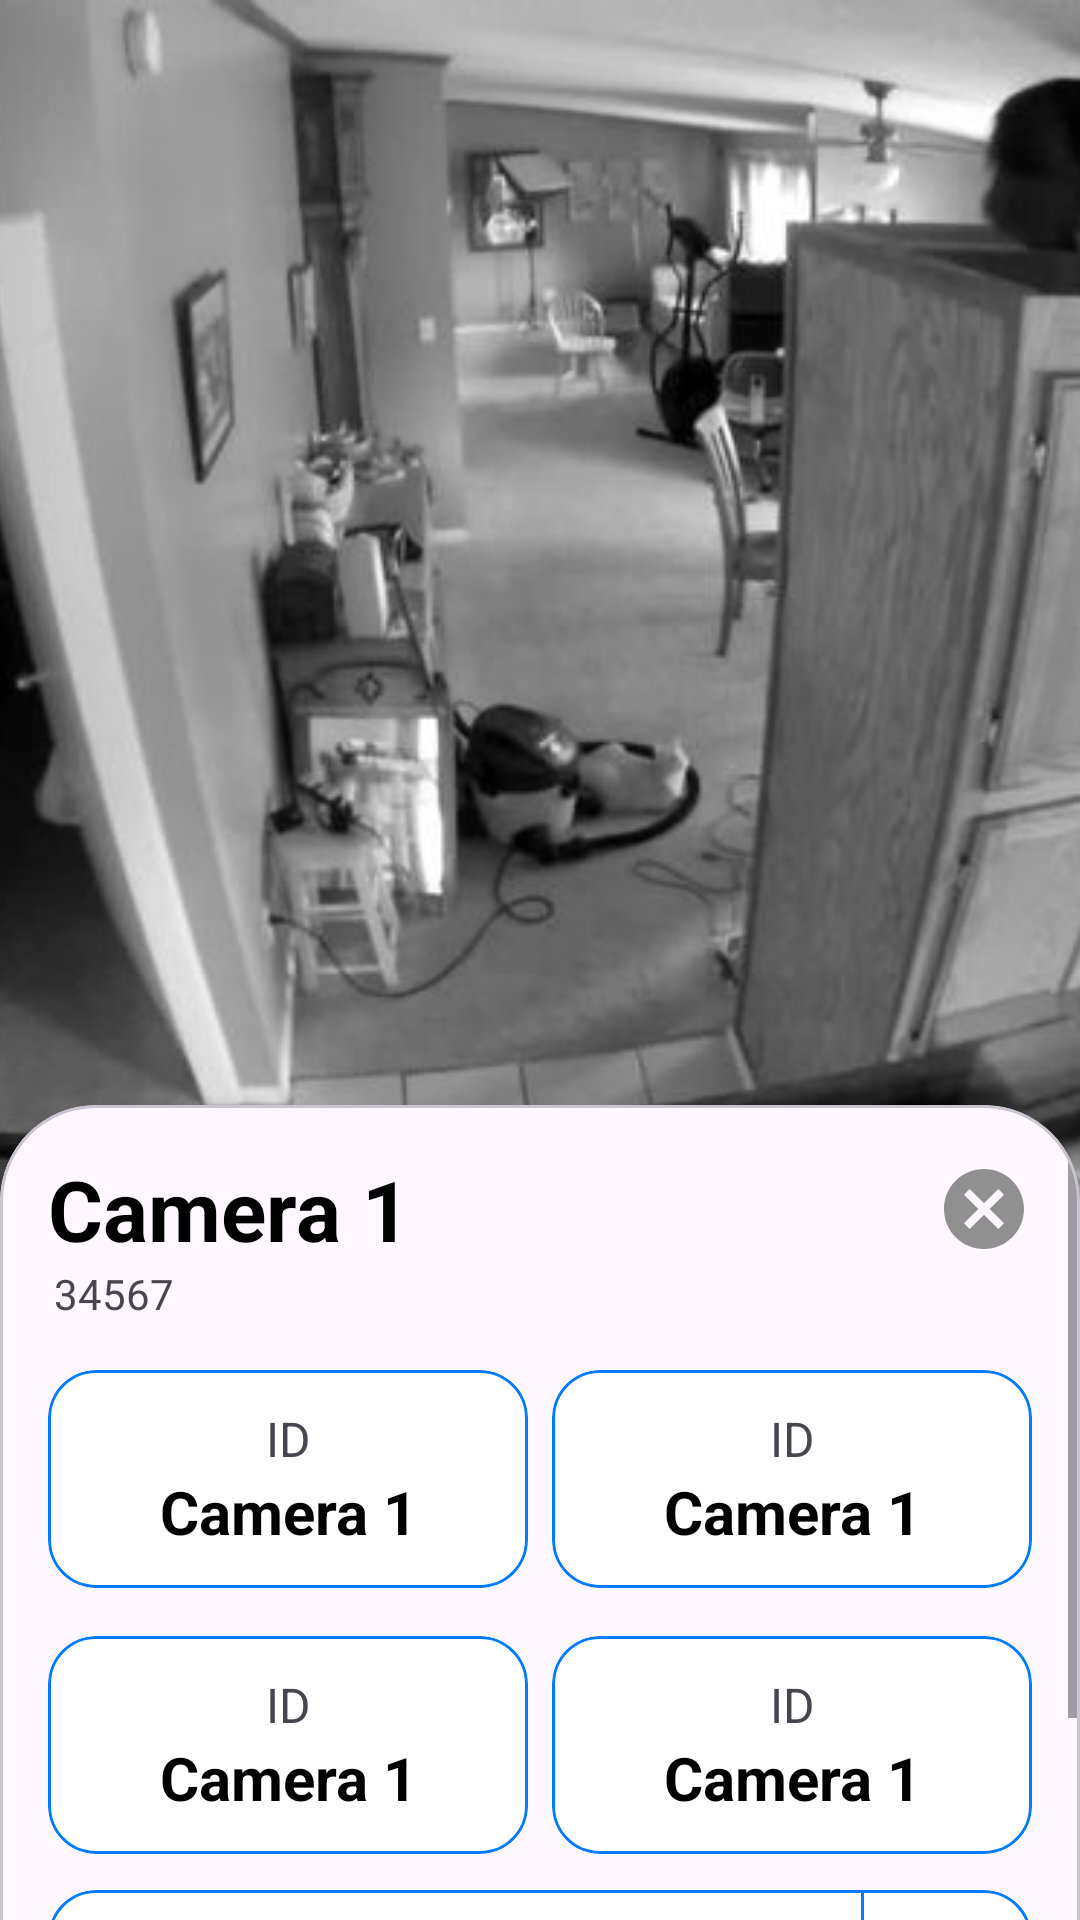

Screen size 1080*1920. Icon name, then its center in pixels as (x=x, y=y):
cancel: (x=984, y=1209)
